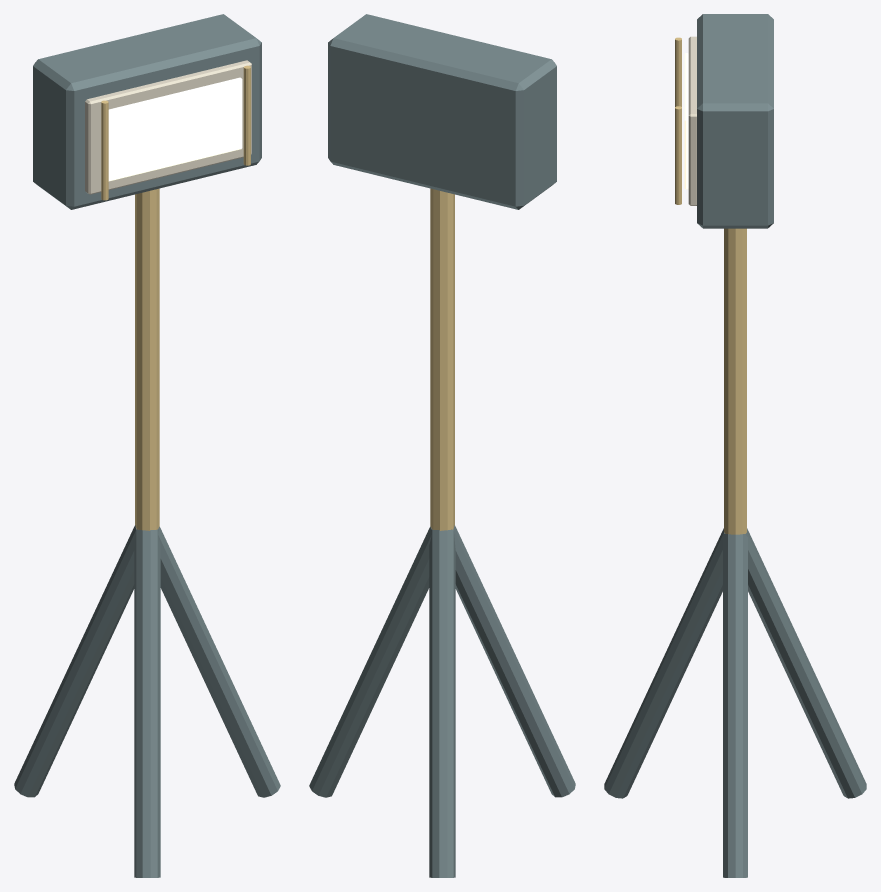
The model's file is floodlight.glb.
The picture shows the model from 3 angles, left to right: view 1: azimuth 30°, elevation 25°; view 2: azimuth 150°, elevation 25°; view 3: azimuth 270°, elevation 25°; orthographic projection.
Parts seen in each view (by area): view 1: floodlight; view 2: floodlight; view 3: floodlight.
Boxes of the visible parts, x1=… form: floodlight: x1=14, y1=14, x2=280, y2=877; floodlight: x1=309, y1=14, x2=575, y2=877; floodlight: x1=604, y1=14, x2=866, y2=877.
Bounding box in the file's own units: 0.6443 × 2.08 × 0.646.
